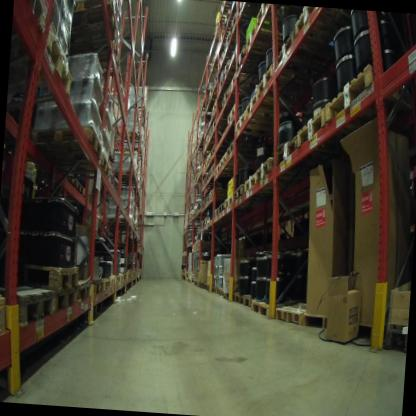pallet: (9, 16, 91, 122), (322, 57, 416, 138), (274, 32, 357, 84), (26, 120, 101, 173), (42, 138, 118, 182), (292, 8, 362, 54), (257, 61, 321, 110), (0, 280, 58, 330), (17, 255, 82, 296), (271, 134, 342, 170), (296, 105, 356, 147), (81, 34, 128, 87), (65, 0, 125, 41), (245, 92, 312, 128), (12, 0, 60, 43), (233, 108, 293, 142), (111, 224, 141, 289), (256, 153, 298, 189), (233, 42, 269, 81), (218, 39, 254, 75), (217, 149, 262, 174), (243, 22, 276, 56), (224, 14, 255, 47), (51, 286, 80, 321), (43, 166, 80, 192), (0, 287, 14, 343), (228, 72, 258, 96), (70, 279, 93, 309), (251, 6, 287, 25), (226, 140, 260, 160), (106, 211, 135, 232), (287, 303, 311, 328), (218, 59, 243, 82), (250, 299, 278, 319), (219, 87, 242, 110), (116, 126, 143, 145), (227, 102, 247, 127), (274, 302, 294, 325), (231, 181, 247, 208), (112, 168, 139, 184), (242, 168, 257, 195), (88, 273, 104, 296), (236, 2, 259, 18), (218, 9, 236, 29), (222, 192, 237, 214), (121, 146, 144, 160), (214, 167, 240, 179), (210, 118, 233, 131), (233, 288, 246, 310), (242, 293, 257, 311), (98, 271, 110, 292), (74, 182, 88, 200), (202, 177, 224, 188), (208, 188, 226, 201), (137, 105, 149, 124), (216, 2, 230, 18), (209, 144, 224, 158), (217, 201, 228, 219), (209, 98, 220, 115), (205, 84, 214, 102), (223, 289, 235, 302), (220, 78, 227, 100), (213, 70, 220, 92), (210, 164, 219, 181), (203, 280, 213, 295), (107, 273, 115, 290), (211, 208, 221, 221), (202, 121, 212, 133), (206, 131, 217, 141), (122, 270, 131, 282), (201, 217, 209, 230), (198, 276, 205, 290), (213, 282, 221, 294), (205, 170, 211, 186), (219, 284, 225, 299), (205, 154, 213, 165), (117, 272, 124, 283), (192, 280, 199, 289), (184, 273, 190, 283), (199, 163, 205, 171), (204, 196, 212, 202), (188, 277, 194, 283)
